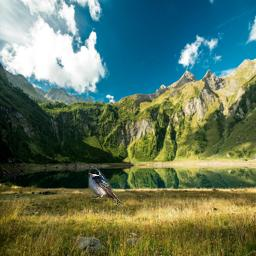Swallow: (88, 168, 124, 209)
